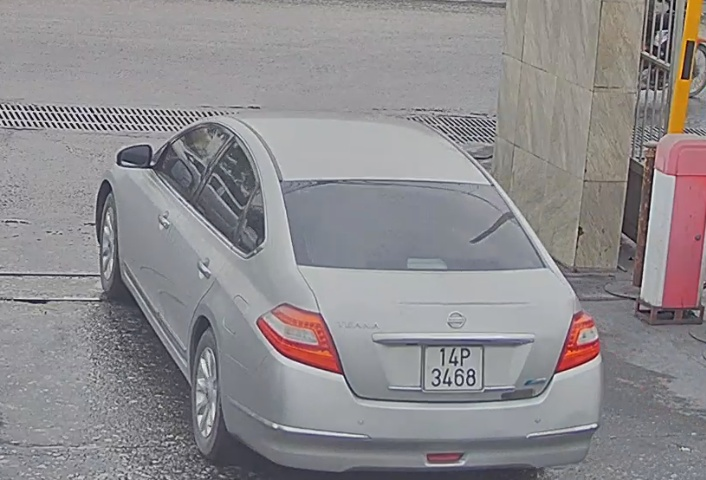vehicle plate: (420, 337, 490, 392)
